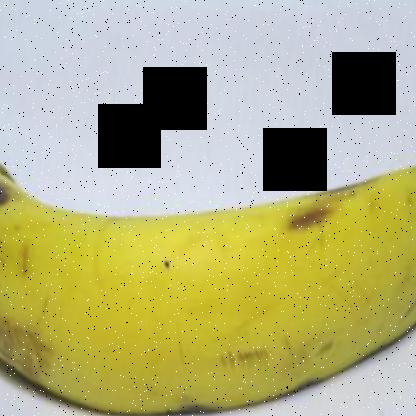freshripe: (1, 123, 416, 415)
